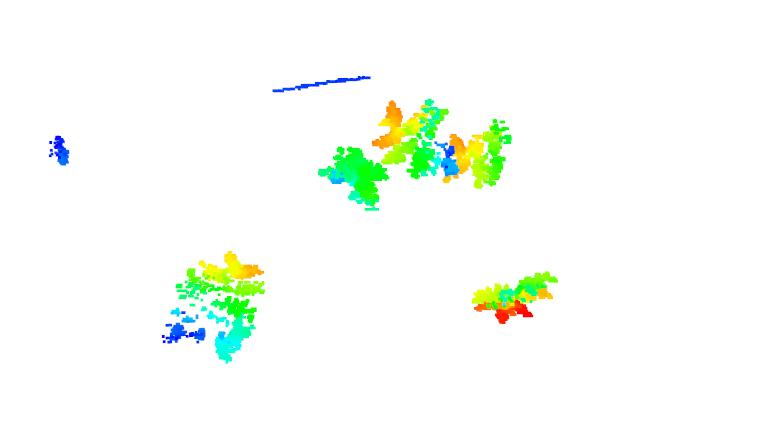chickpea: (155, 248, 268, 367), (370, 96, 451, 181), (470, 269, 561, 328), (442, 118, 514, 191), (315, 144, 390, 214)
